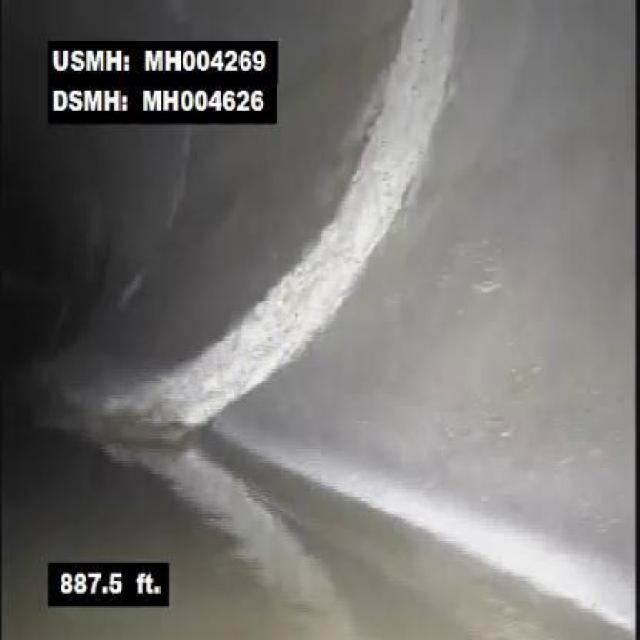Joint offset: (135, 123, 434, 520)
